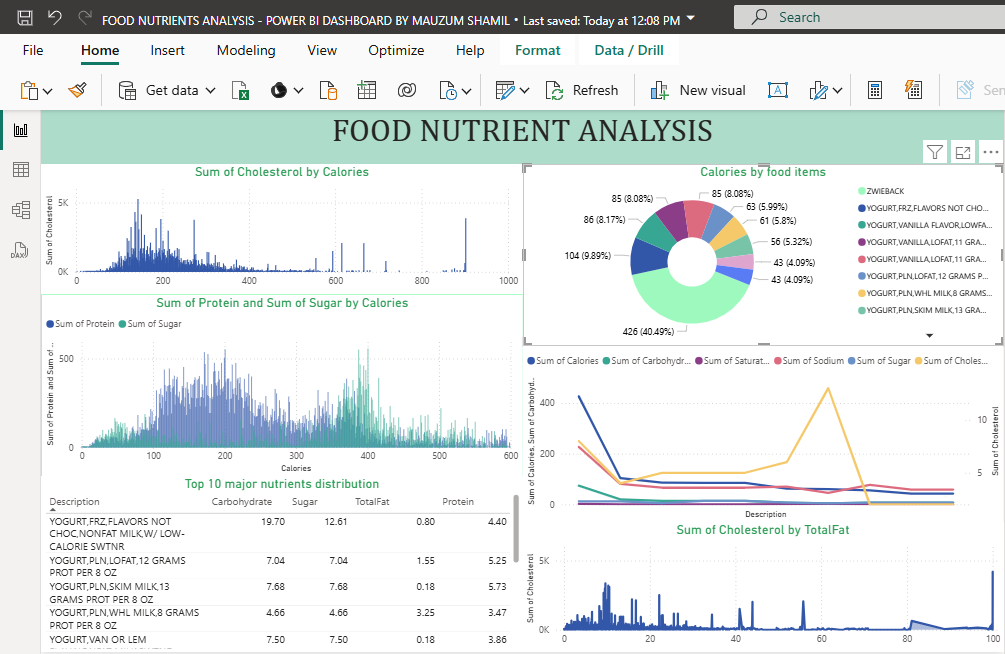

The dashboard page shown, as its layout file describes it:
{"tool":"powerbi","page":{"name":"Page 1","canvas":[1280,720],"ordinal":0},"visuals":[{"type":"textbox","box":[0,0,1280,71.6],"z":0},{"type":"lineClusteredColumnComboChart","fields":{"Category":["food nutrient dataset.Calories"],"Y":["food nutrient dataset.Cholesterol"]},"box":[0,72,640.6,173.3],"z":1000},{"type":"donutChart","title":"Calories by food items","fields":{"Series":["food nutrient dataset.Description"],"Y":["food nutrient dataset.Calories"],"Category":["food nutrient dataset.Description"]},"box":[640.6,72,638.7,241.5],"z":2000},{"type":"lineChart","fields":{"Category":["food nutrient dataset.Description"],"Y":["food nutrient dataset.Calories","food nutrient dataset.Carbohydrate","food nutrient dataset.SaturatedFat","food nutrient dataset.Sodium","food nutrient dataset.Sugar"],"Y2":["food nutrient dataset.Cholesterol"]},"box":[640.6,313.5,638.7,233.7],"z":3000},{"type":"stackedAreaChart","fields":{"Category":["food nutrient dataset.TotalFat"],"Y":["food nutrient dataset.Cholesterol"]},"box":[638.7,547.2,640.6,173.3],"z":4000},{"type":"tableEx","title":"Top 10 major nutrients distribution","fields":{"Values":["food nutrient dataset.Description","food nutrient dataset.Carbohydrate","food nutrient dataset.Sugar","food nutrient dataset.TotalFat","food nutrient dataset.Protein"]},"box":[0,486.8,640.6,233.7],"z":5000},{"type":"lineClusteredColumnComboChart","fields":{"Category":["food nutrient dataset.Calories"],"Y":["food nutrient dataset.Protein","food nutrient dataset.Sugar"]},"box":[1.9,245.4,638.7,241.5],"z":6000}]}

Visuals, with their boxes in screenshot pixels (x1, y1, x2, y2):
textbox: 47,0,1003,30
lineClusteredColumnComboChart - food nutrient dataset.Calories x food nutrient dataset.Cholesterol: 47,30,526,160
"Calories by food items" donutChart: 526,30,1003,211
lineChart - food nutrient dataset.Description x food nutrient dataset.Calories: 526,211,1003,385
stackedAreaChart - food nutrient dataset.TotalFat x food nutrient dataset.Cholesterol: 524,385,1003,515
"Top 10 major nutrients distribution" tableEx: 47,340,526,515
lineClusteredColumnComboChart - food nutrient dataset.Calories x food nutrient dataset.Protein: 49,160,526,340
